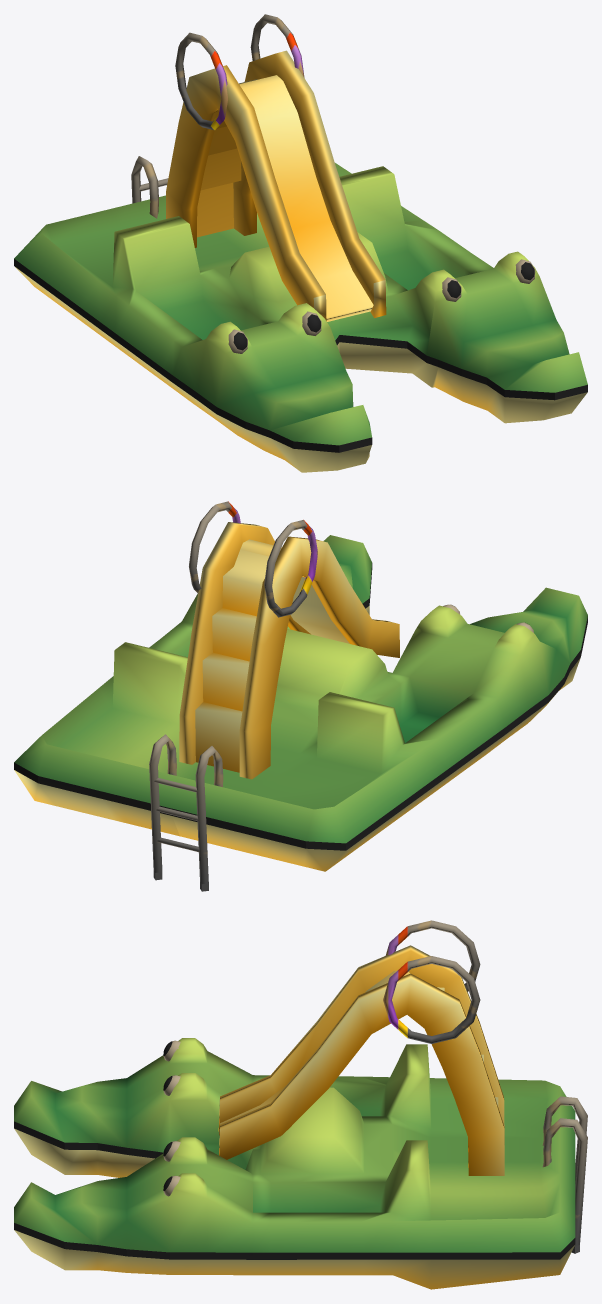
Rendered from fbx_crocboat.fbx.
3 views of the same model, one above another, from view 1: azimuth 30°, elevation 25°; view 2: azimuth 150°, elevation 25°; view 3: azimuth 270°, elevation 25° (orthographic). The views are drawn at different scales.
Parts seen in each view (by area): view 1: geo_CrocBoat; view 2: geo_CrocBoat; view 3: geo_CrocBoat.
Boxes of the visible parts, x1,y1,x2,y2 form: geo_CrocBoat: (14,14,587,472); geo_CrocBoat: (14,501,587,891); geo_CrocBoat: (14,920,587,1289).
Bounding box in the file's own units: 10.27 × 9.28 × 15.9.
